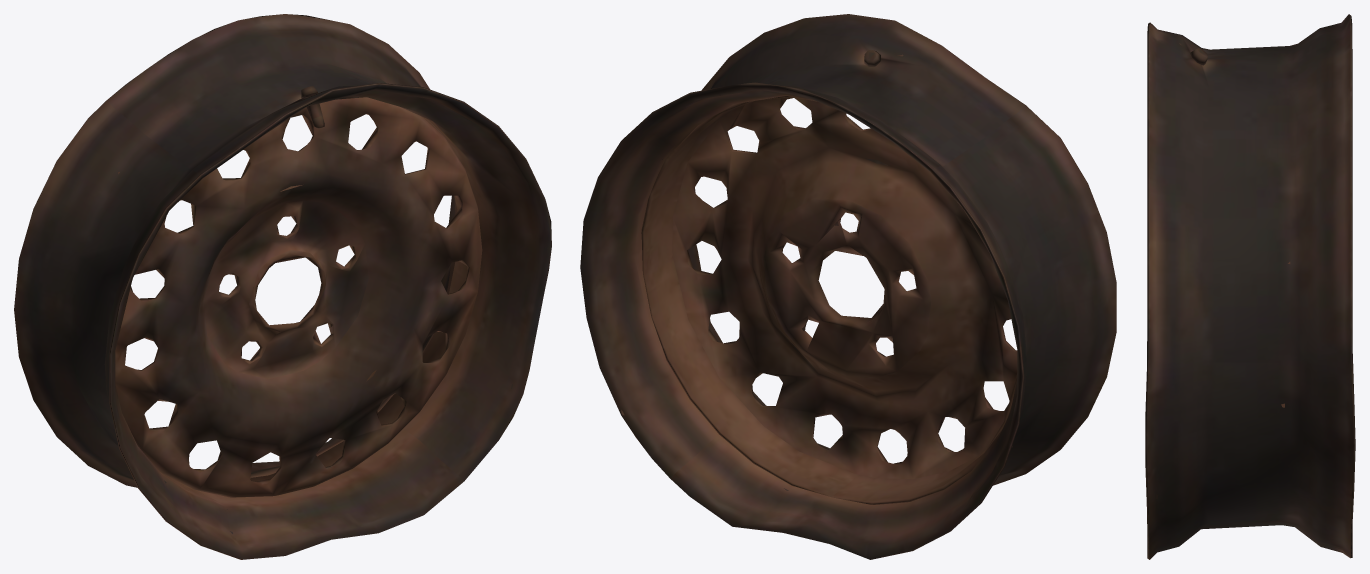
File: wheel_rim.glb
3 views of the same model, side by side, from view 1: azimuth 30°, elevation 25°; view 2: azimuth 150°, elevation 25°; view 3: azimuth 270°, elevation 25° (orthographic). The views are drawn at different scales.
Parts seen in each view (by area): view 1: rusted_wheel_rim_01; view 2: rusted_wheel_rim_01; view 3: rusted_wheel_rim_01.
Boxes of the visible parts, left/top/right/bottom form: rusted_wheel_rim_01: left=14, top=14, right=551, bottom=559; rusted_wheel_rim_01: left=580, top=14, right=1116, bottom=559; rusted_wheel_rim_01: left=1145, top=14, right=1355, bottom=559.
Bounding box in the file's own units: 0.4016 × 0.3938 × 0.1539.
1 material, 1 textured.
